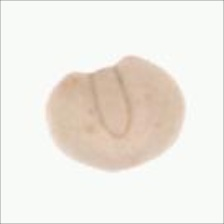L5: (88, 66, 133, 140), (103, 153, 164, 176)
L6: (43, 52, 191, 176)
